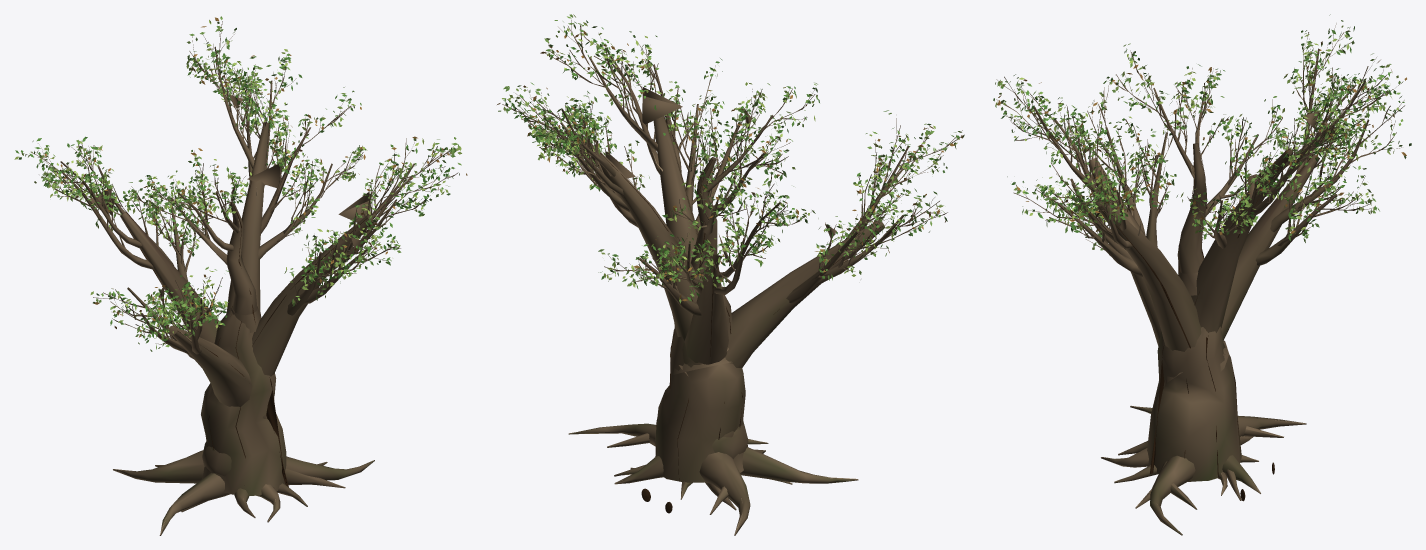
File: ancient_tree_02_lod2.glb
3 views of the same model, side by side, from view 1: azimuth 30°, elevation 25°; view 2: azimuth 150°, elevation 25°; view 3: azimuth 270°, elevation 25° (orthographic). The views are drawn at different scales.
Parts seen in each view (by area): view 1: AncientTreeWood_LOD2, AncientLeaves_LOD2, FineBranches_LOD2, DirectedBarkGrooves_LOD2; view 2: AncientTreeWood_LOD2, AncientLeaves_LOD2, FineBranches_LOD2, DirectedBarkGrooves_LOD2; view 3: AncientTreeWood_LOD2, AncientLeaves_LOD2, FineBranches_LOD2, DirectedBarkGrooves_LOD2.
Part boxes in pixels (x1,y1,x2,y2): AncientTreeWood_LOD2: (31,21,451,535); AncientLeaves_LOD2: (14,16,467,351); FineBranches_LOD2: (21,22,457,344); DirectedBarkGrooves_LOD2: (122,123,367,487); AncientTreeWood_LOD2: (514,26,964,535); AncientLeaves_LOD2: (497,14,964,303); FineBranches_LOD2: (502,20,962,294); DirectedBarkGrooves_LOD2: (591,116,882,481); AncientTreeWood_LOD2: (1004,32,1404,535); AncientLeaves_LOD2: (993,14,1411,250); FineBranches_LOD2: (996,23,1404,250); DirectedBarkGrooves_LOD2: (1089,143,1312,478).
Size of the model in its own units: 22.52 by 24.78 by 20.59.
